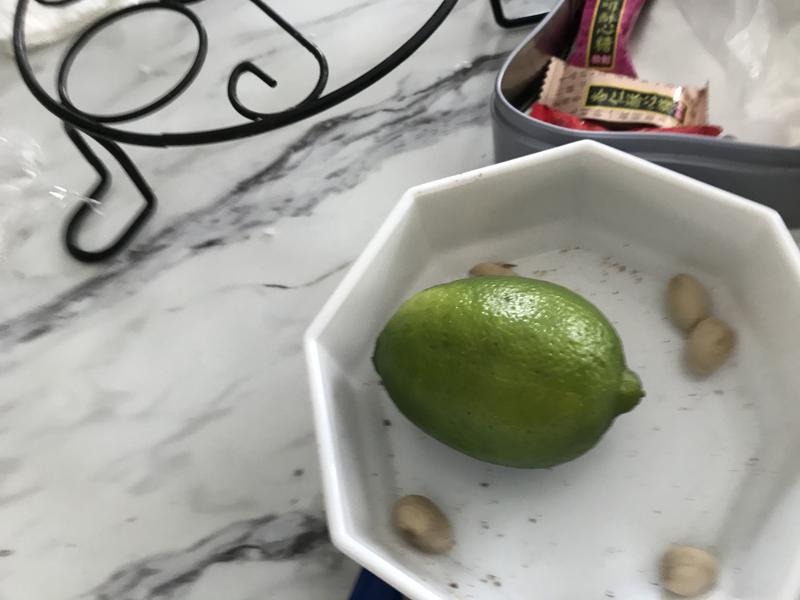lime: (368, 263, 655, 477)
